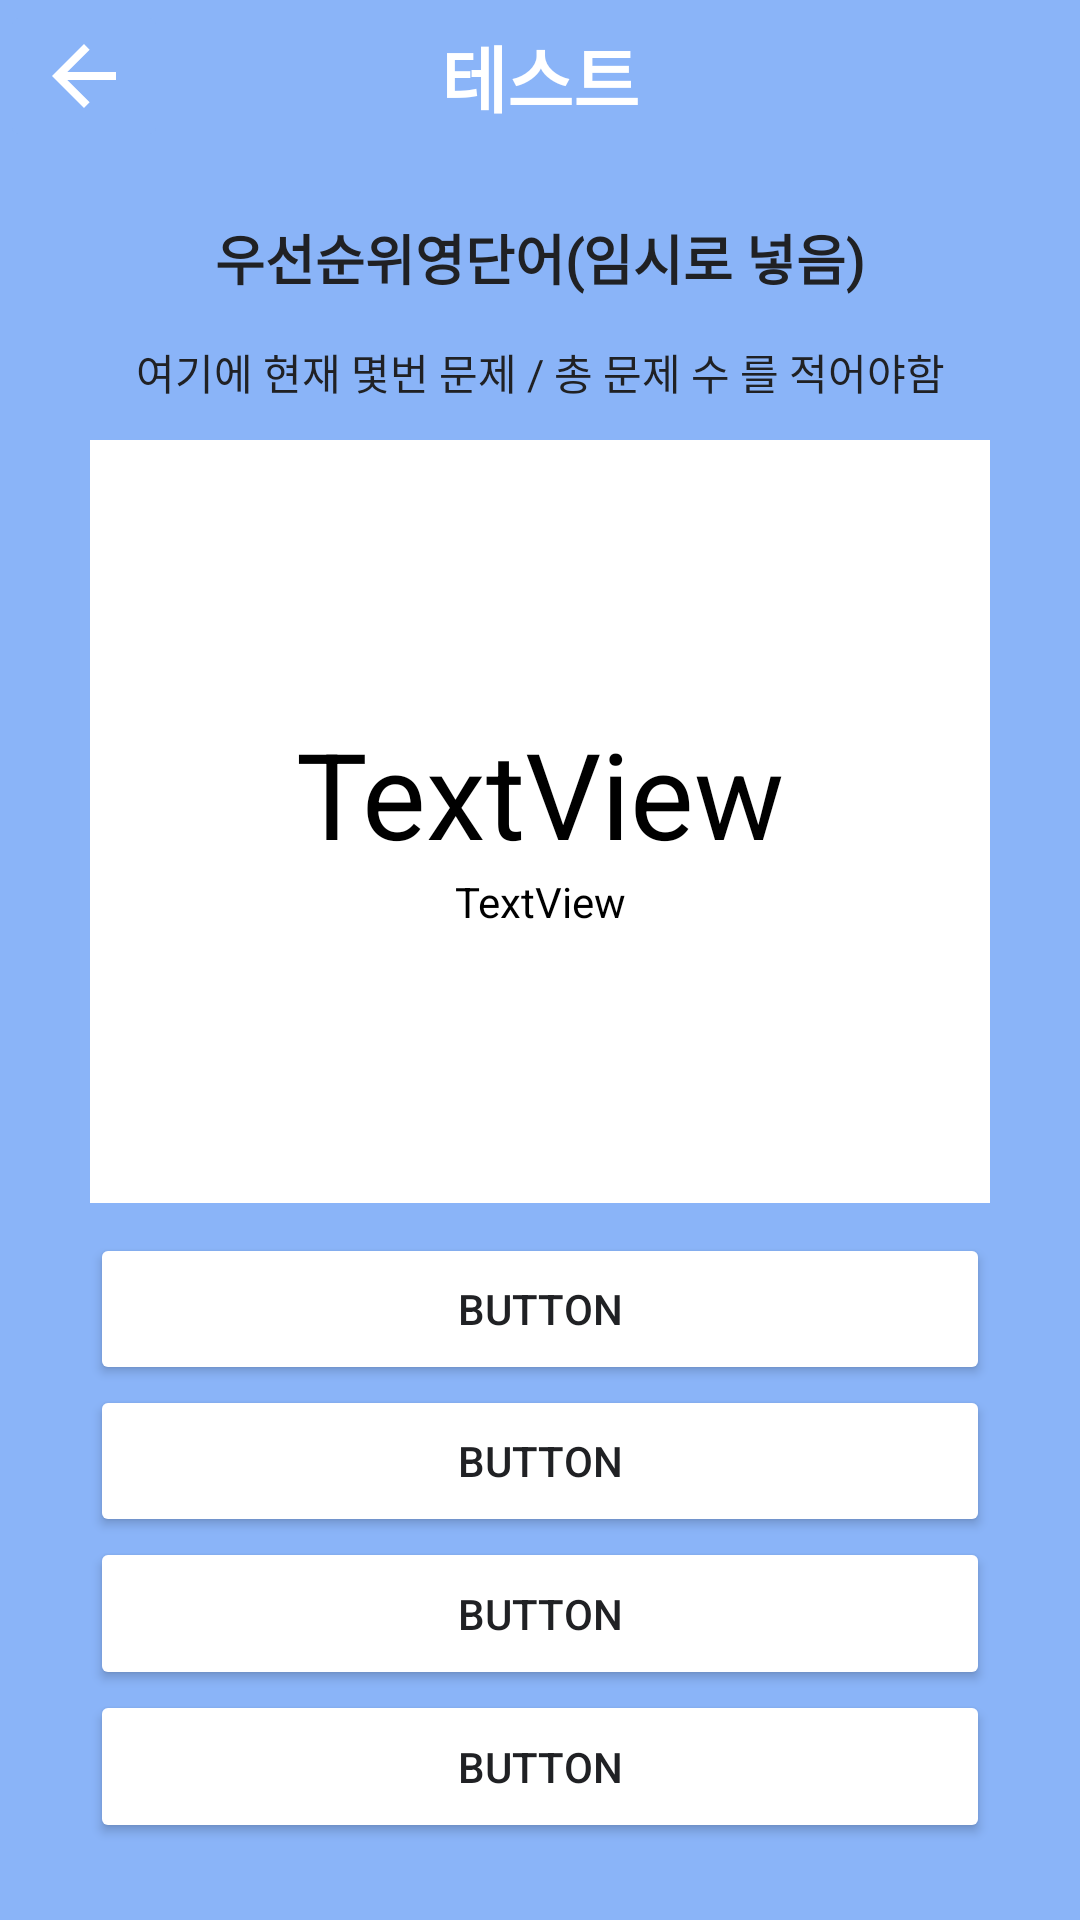

Where to tap for icons on this 1080*1920 app screen, as (x=x, y=y):
arrow back: (x=84, y=76)
